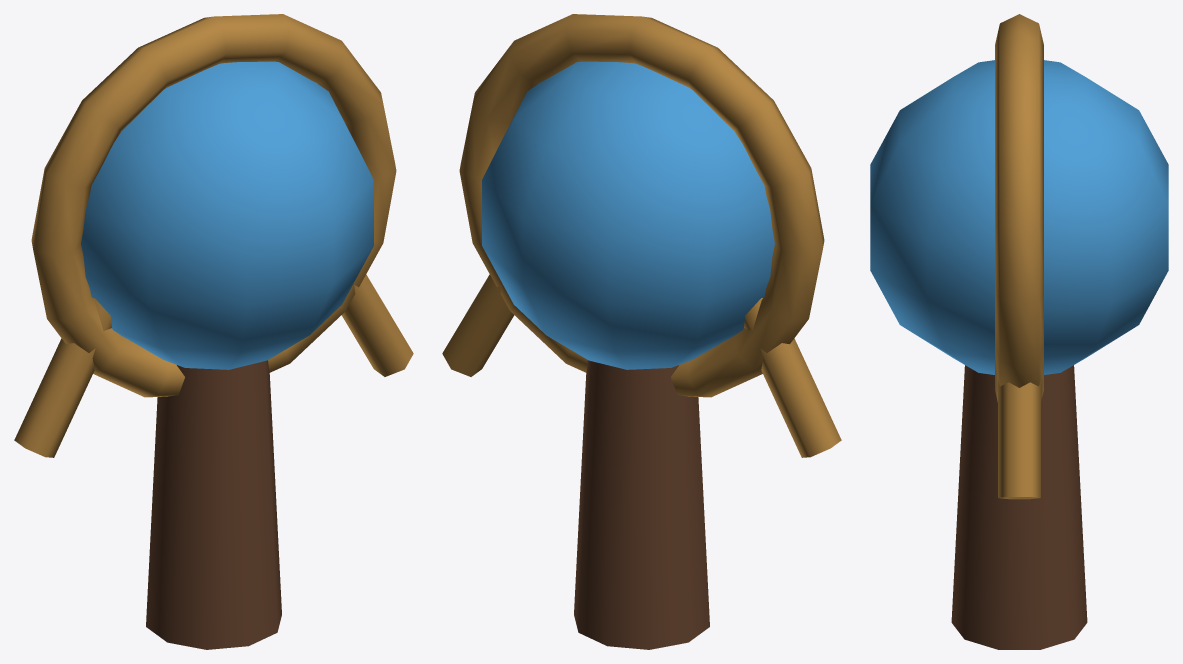
The model's file is arcane-orb.glb.
3 views of the same model, side by side, from view 1: azimuth 30°, elevation 25°; view 2: azimuth 150°, elevation 25°; view 3: azimuth 270°, elevation 25° (orthographic). The views are drawn at different scales.
Visible parts, largest first — view 1: orb-focus, orb-cradle, orb-handle, orb-cradle-arm (×2); view 2: orb-focus, orb-cradle, orb-handle, orb-cradle-arm (×2); view 3: orb-focus, orb-handle, orb-cradle, orb-cradle-arm.
Boxes of the visible parts, x1,y1,x2,y2 form: orb-focus: (81,61,373,369); orb-cradle: (31,14,396,397); orb-handle: (146,360,281,649); orb-cradle-arm (×2): (14,274,413,457); orb-focus: (482,61,774,369); orb-cradle: (459,14,824,397); orb-handle: (574,360,709,649); orb-cradle-arm (×2): (442,274,841,457); orb-focus: (870,60,1168,374); orb-handle: (951,365,1087,649); orb-cradle: (995,14,1043,402); orb-cradle-arm: (998,380,1040,499).
Bounding box in the file's own units: 0.2449 × 0.364 × 0.1669.
